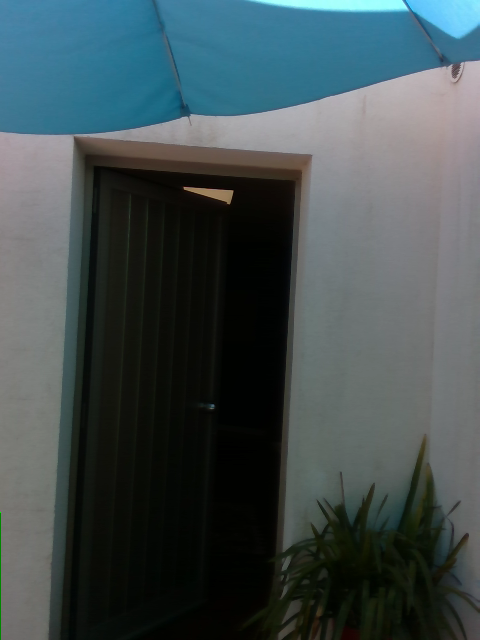semi: (45, 135, 310, 638)
